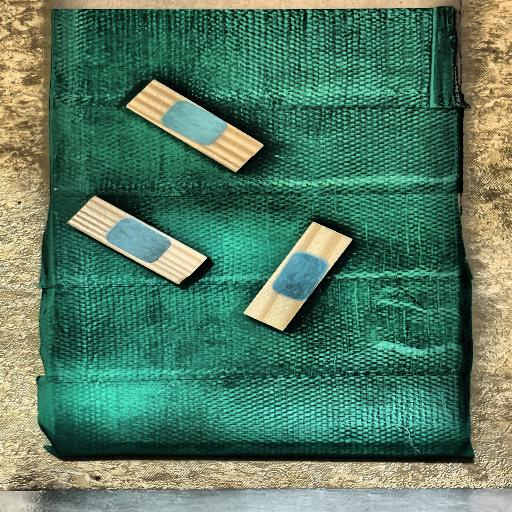objects: (126, 74, 264, 178), (67, 190, 207, 291), (243, 214, 352, 338)
